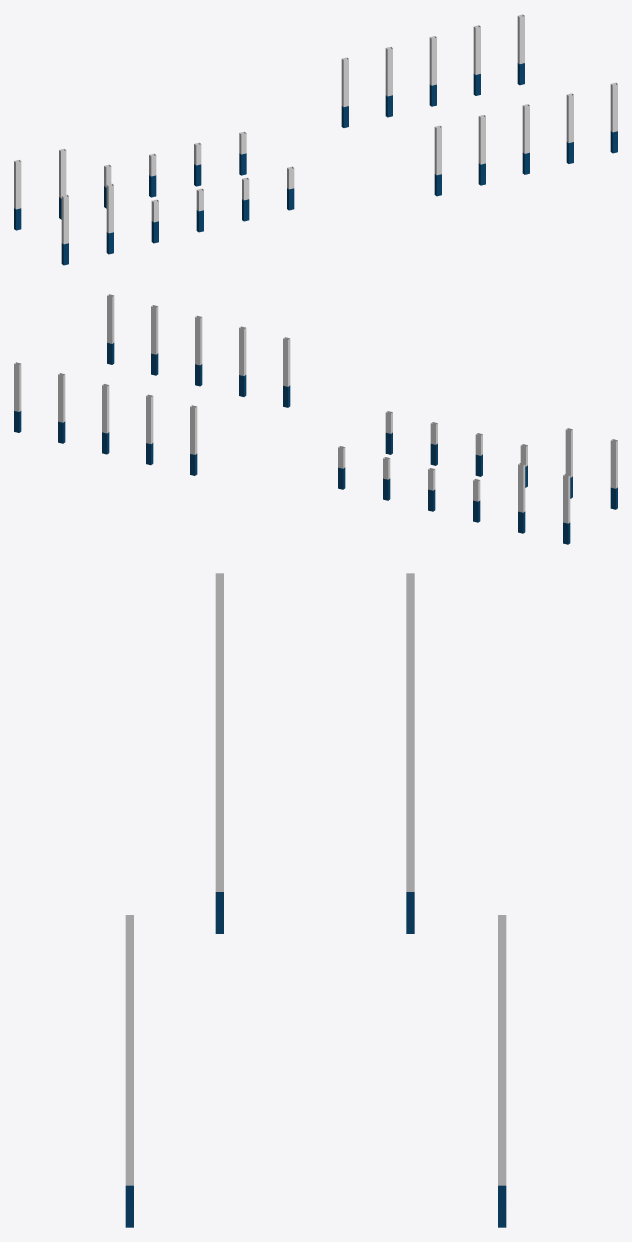
File: Pillars 1.fbx
The picture shows the model from 3 angles, top to bottom: view 1: azimuth 30°, elevation 25°; view 2: azimuth 150°, elevation 25°; view 3: azimuth 270°, elevation 25°; orthographic projection. The views are drawn at different scales.
Parts seen in each view (by area): view 1: Pillars; view 2: Pillars; view 3: Pillars.
Part boxes in pixels (x1,y1,x2,y2): Pillars: (14,14,617,265); Pillars: (14,294,617,544); Pillars: (125,573,506,1227).
Bounding box in the file's own units: 62.15 × 7.6 × 19.27.
1 material, 1 textured.
